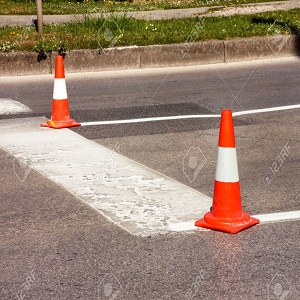traffic cone: (194, 109, 260, 235), (41, 55, 82, 130)
